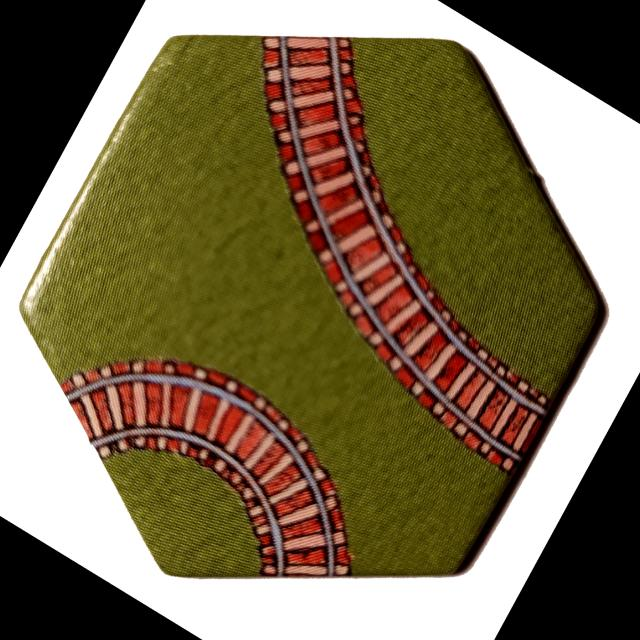15_1: (17, 32, 603, 581)
